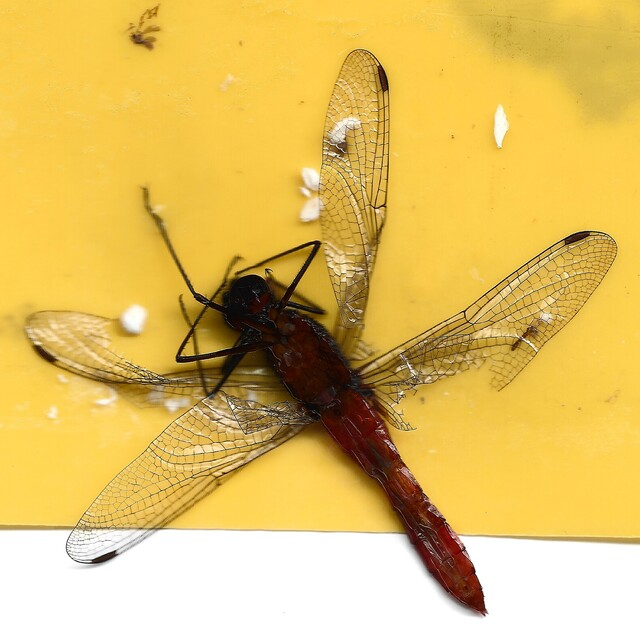Nematocera: (129, 24, 161, 53)
Odonata: (23, 46, 617, 616)
